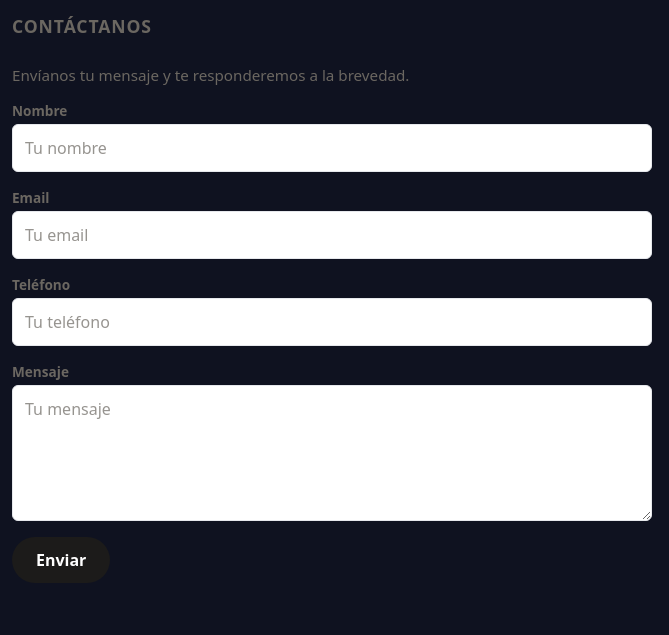
Scenario: ContactSection › muestra el aviso anti-spam cuando el API responde 429
The width and height of the screenshot is (669, 635).
In the field labelled "Nombre": (332, 148) top-left (12, 124), bottom-right (652, 172), type "Juan Pérez"
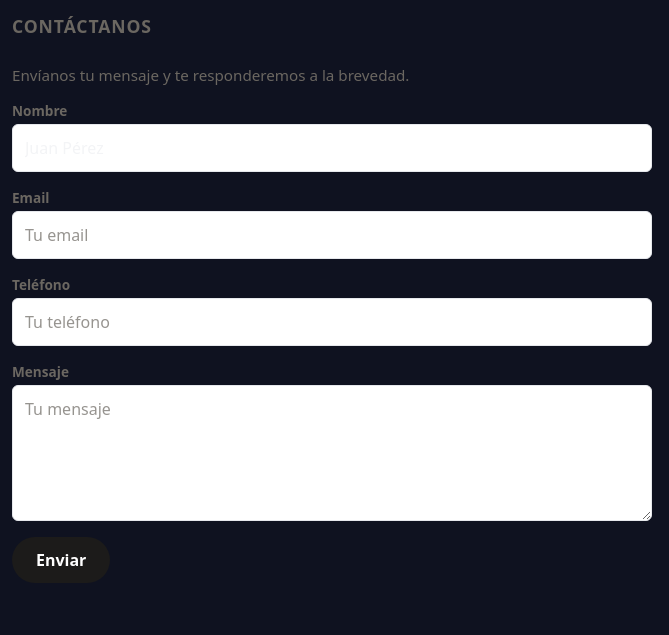
In the field labelled "Email": (332, 235) top-left (12, 211), bottom-right (652, 259), type "juan@mail.com"
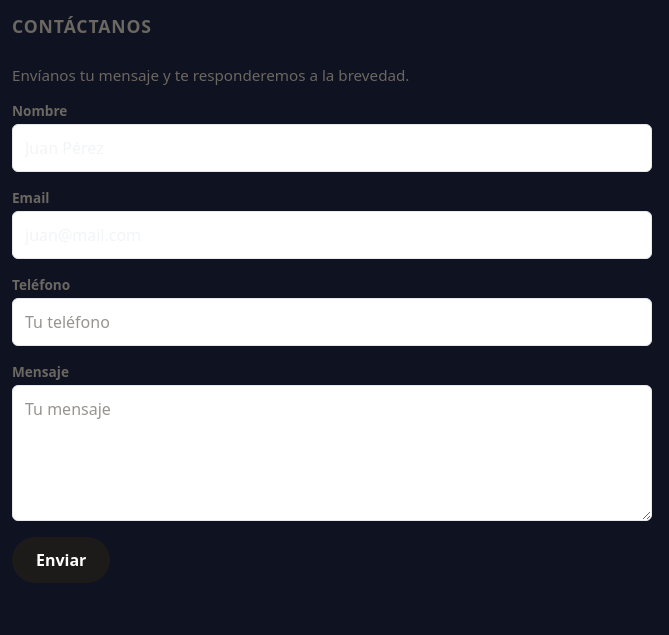
In the field labelled "Teléfono": (332, 322) top-left (12, 298), bottom-right (652, 346), type "+56912345678"
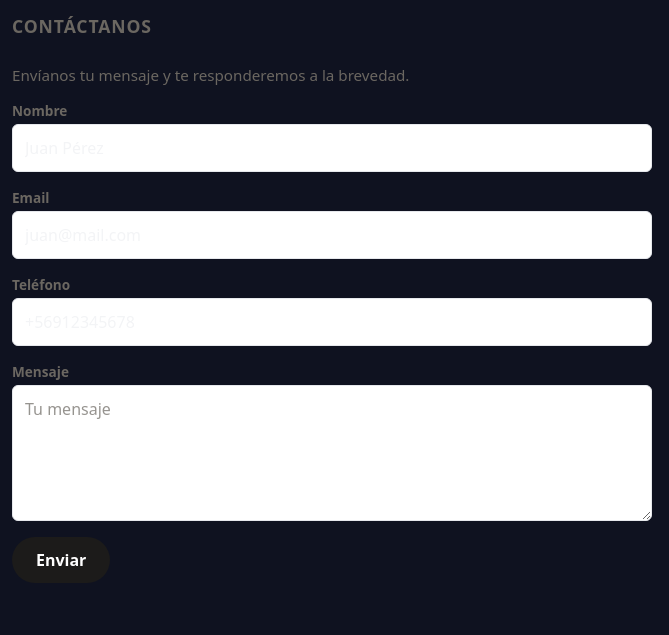
In the text box labelled "Mensaje": (332, 453) top-left (12, 385), bottom-right (652, 521), type "Hola, quiero auspiciar"
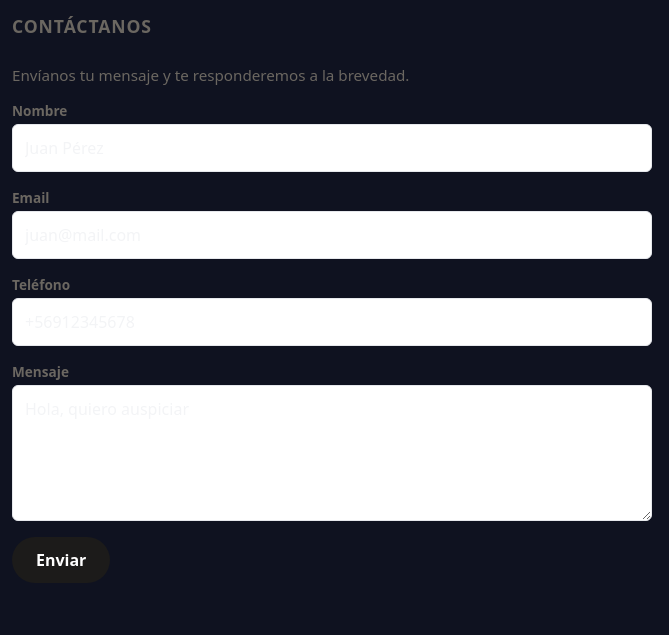
Click the button "Enviar": (61, 560) top-left (12, 537), bottom-right (110, 583)
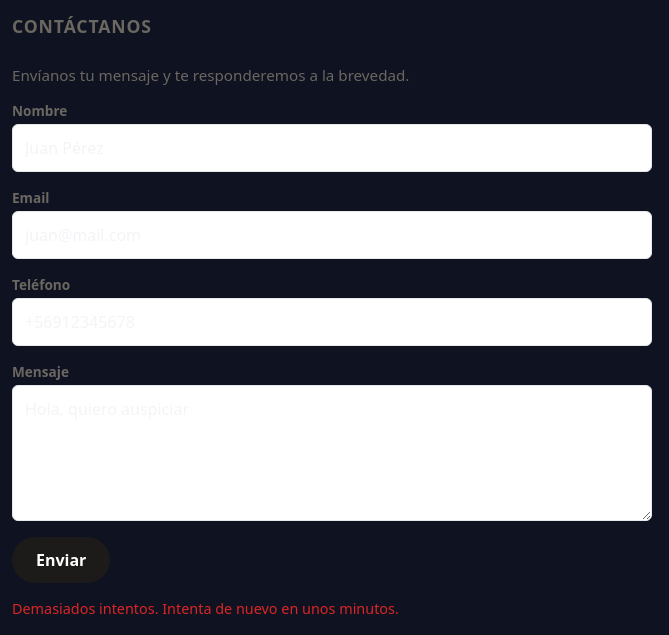
Expected: the text "Demasiados intentos. Intenta de nuevo en unos minutos." is shown, top-left (12, 599), bottom-right (399, 618)
